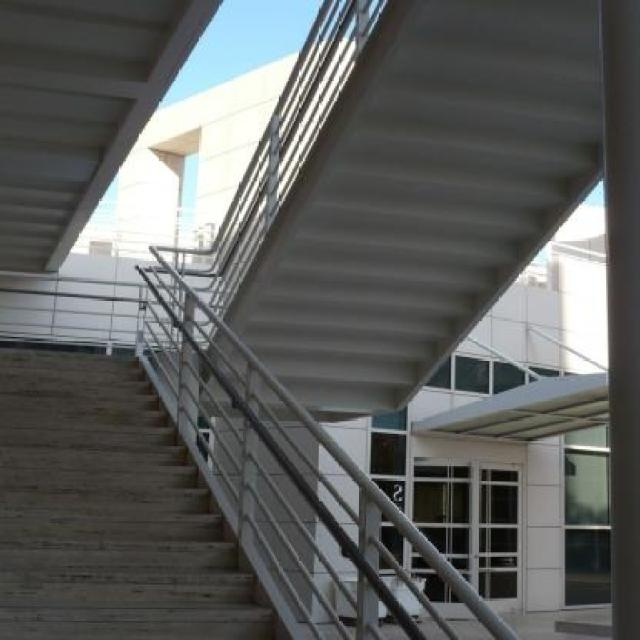stair: (0, 347, 276, 640)
